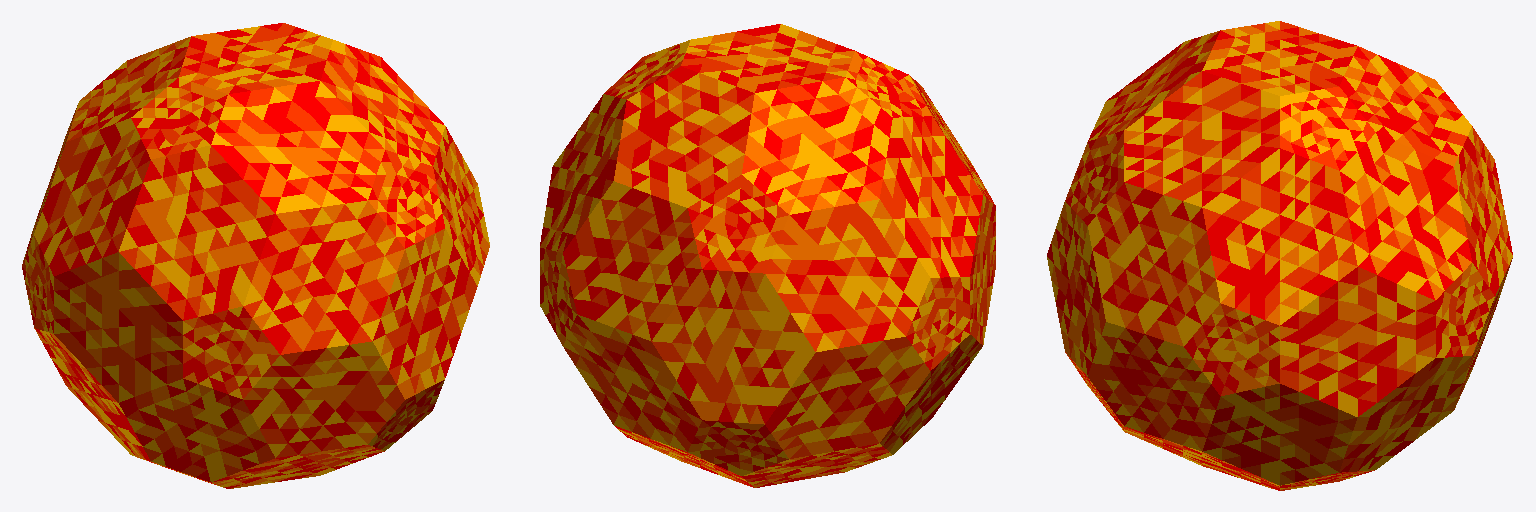
Rendered from testfc.obj.
The picture shows the model from 3 angles: view 1: azimuth 30°, elevation 25°; view 2: azimuth 150°, elevation 25°; view 3: azimuth 270°, elevation 25°; orthographic projection.
Visible parts, largest first — view 1: 0; view 2: 0; view 3: 0.
Part boxes in pixels (x1,y1,x2,y2): 0: (22,23,489,488); 0: (540,24,995,487); 0: (1047,21,1512,490).
Size of the model in its own units: 453 by 424 by 453.